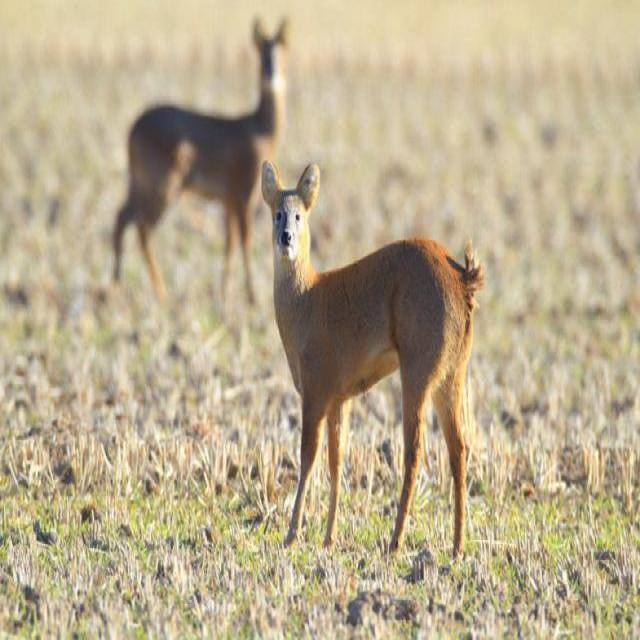deer: (250, 156, 512, 576), (110, 9, 296, 314)
